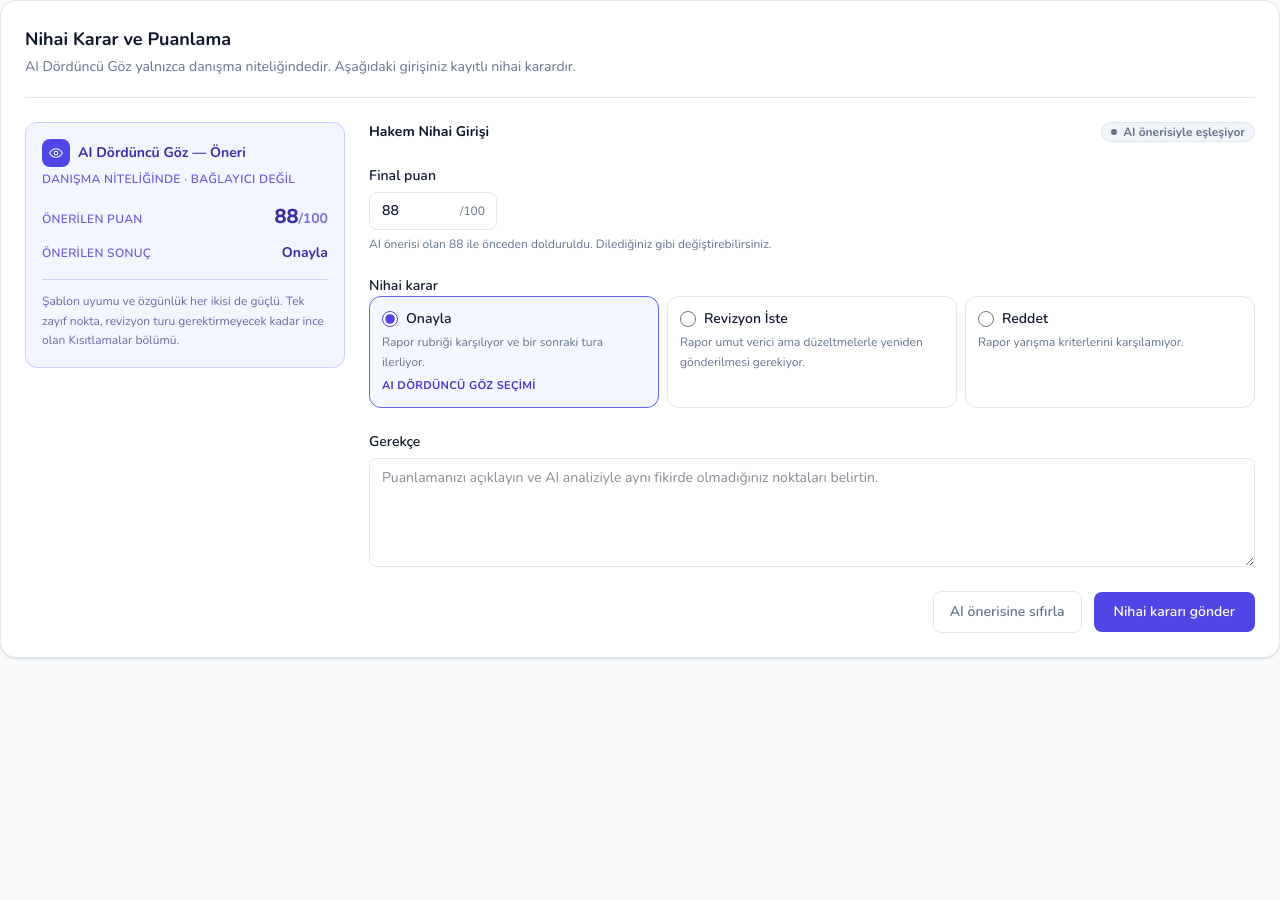
Test: FinalDecisionForm › requires a written justification before recording the decision
In the text box labelled "Gerekçe": (812, 512) [369,458,1255,567], type "Too short"
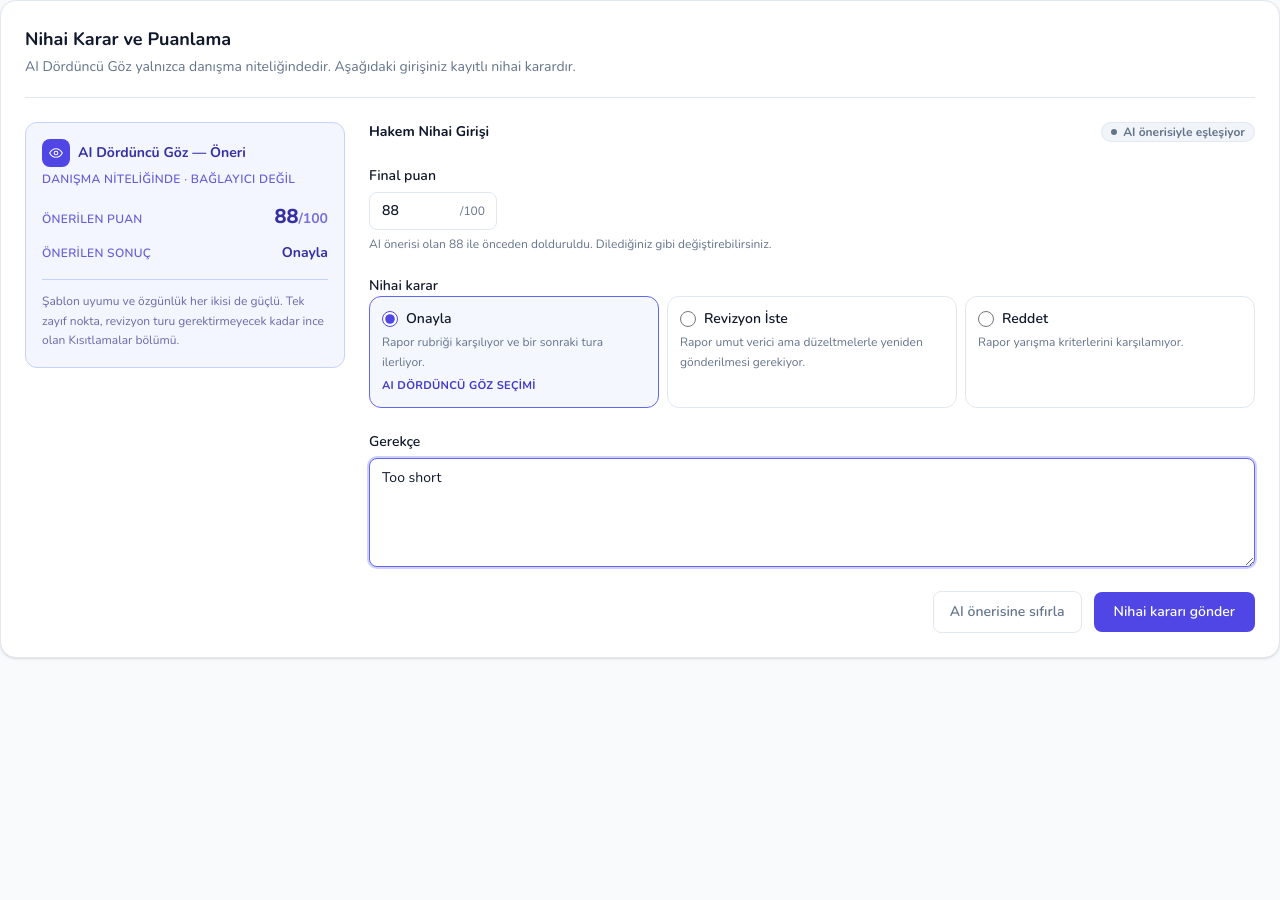
Click the button "Nihai kararı gönder": (1174, 612) [1094,592,1255,632]
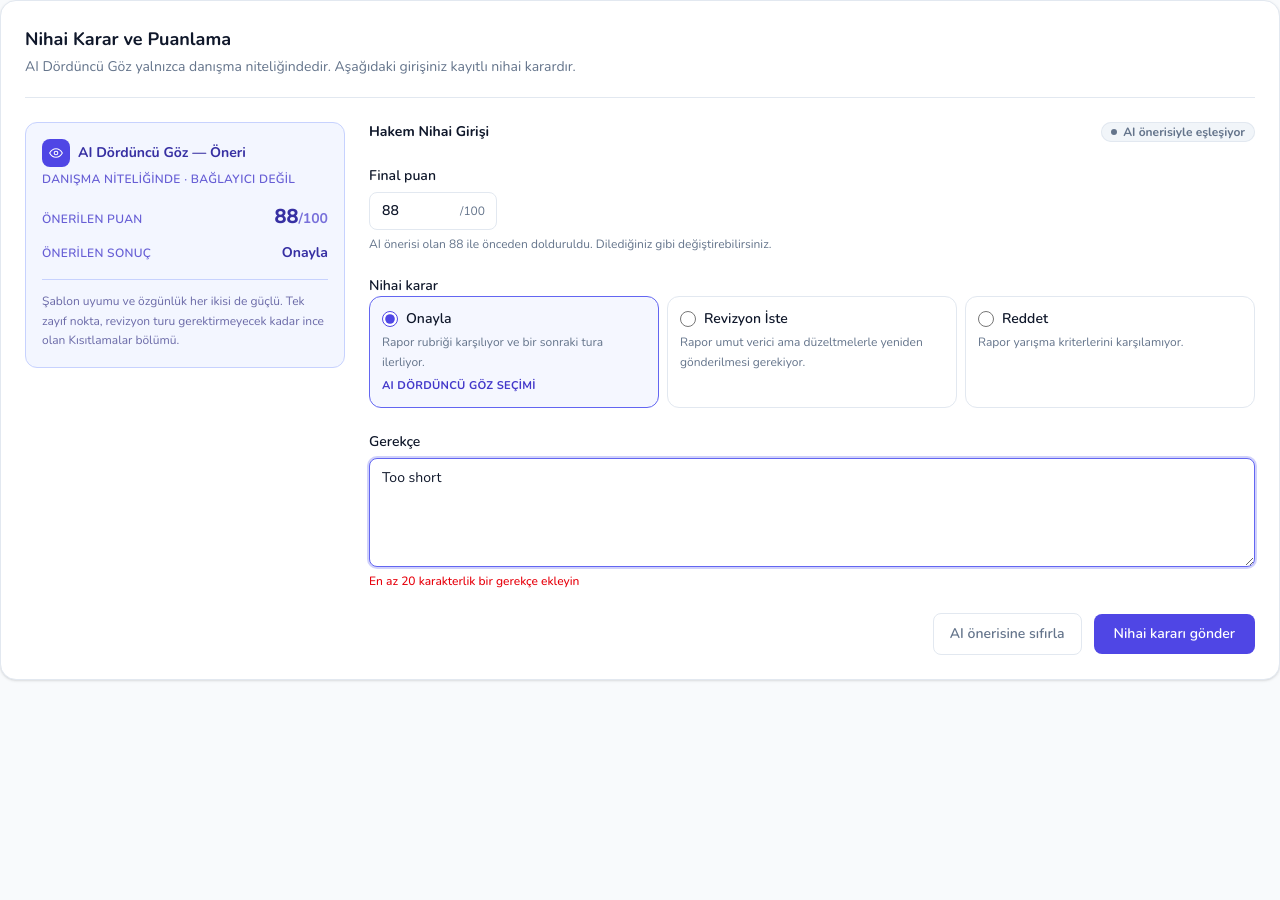
Expected: the message shows "En az 20 karakter", [369,573,579,589]
